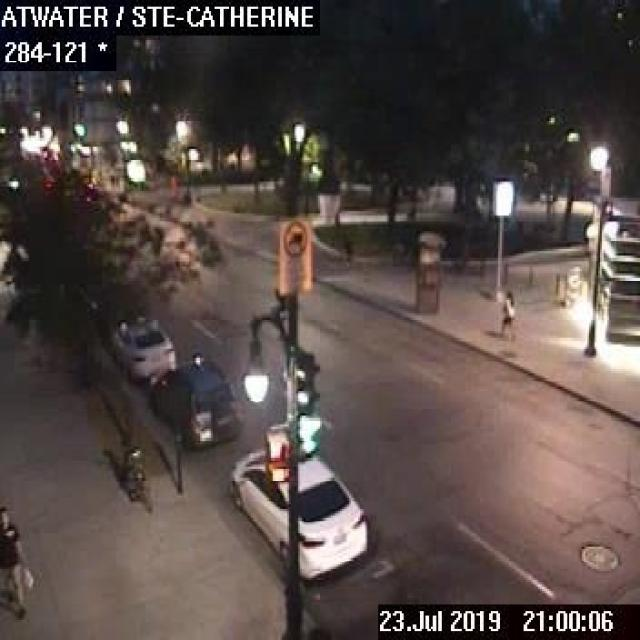pedestrian: (0, 502, 36, 617), (496, 286, 515, 337), (342, 236, 351, 266)
vehicle: (230, 448, 367, 580), (149, 354, 236, 445), (110, 315, 174, 382)
